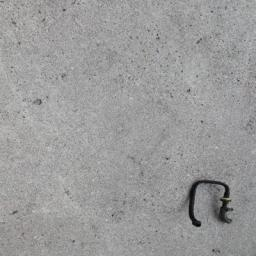FOD: (186, 177, 238, 232)
